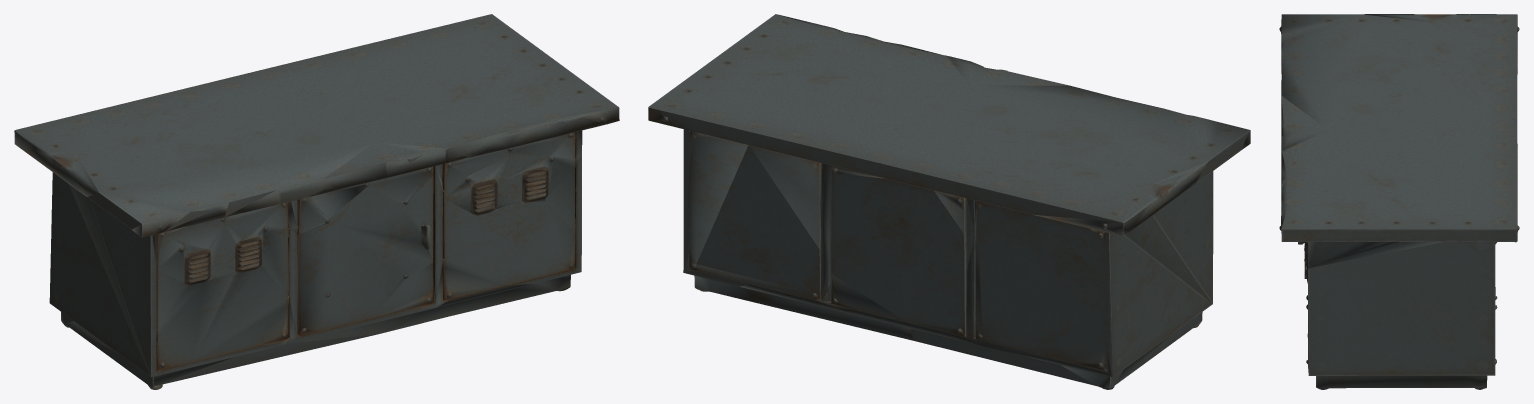
Rendered from TableauDeBord.fbx.
3 renders of one model, left to right at view 1: azimuth 30°, elevation 25°; view 2: azimuth 150°, elevation 25°; view 3: azimuth 270°, elevation 25°, orthographic. The views are drawn at different scales.
Parts seen in each view (by area): view 1: Mesh_0; view 2: Mesh_0; view 3: Mesh_0.
Boxes of the visible parts, left/top/right/bottom form: Mesh_0: left=14, top=14, right=619, bottom=389; Mesh_0: left=648, top=14, right=1250, bottom=389; Mesh_0: left=1279, top=14, right=1519, bottom=389.
Size of the model in its own units: 190 by 72.19 by 89.65.
Materials: 1 (1 with a texture image).
